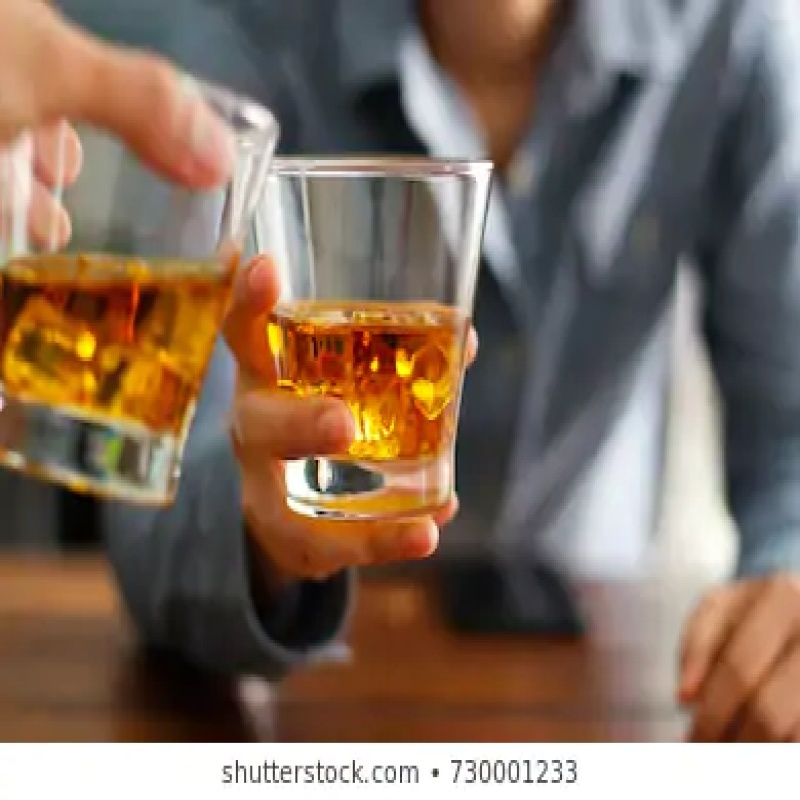whiskey: (242, 152, 480, 502)
